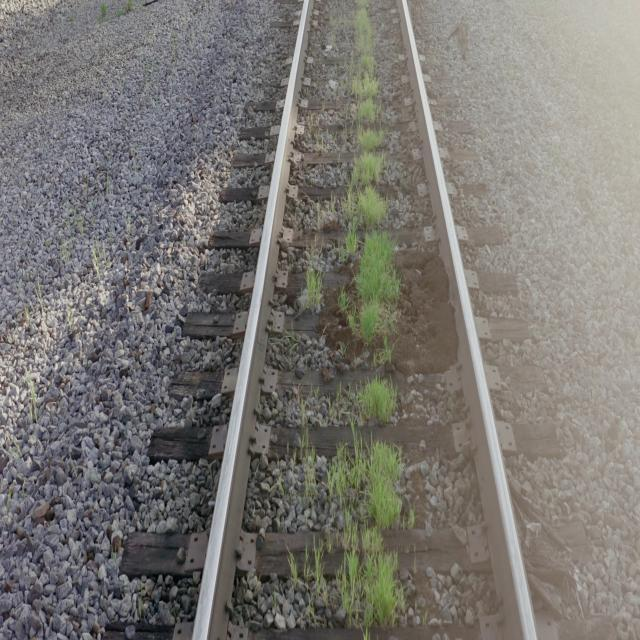Plant: (338, 4, 400, 356), (322, 442, 401, 629), (359, 376, 398, 424), (305, 544, 329, 609), (301, 444, 320, 498), (305, 267, 322, 302), (346, 218, 358, 258), (291, 569, 298, 587)
